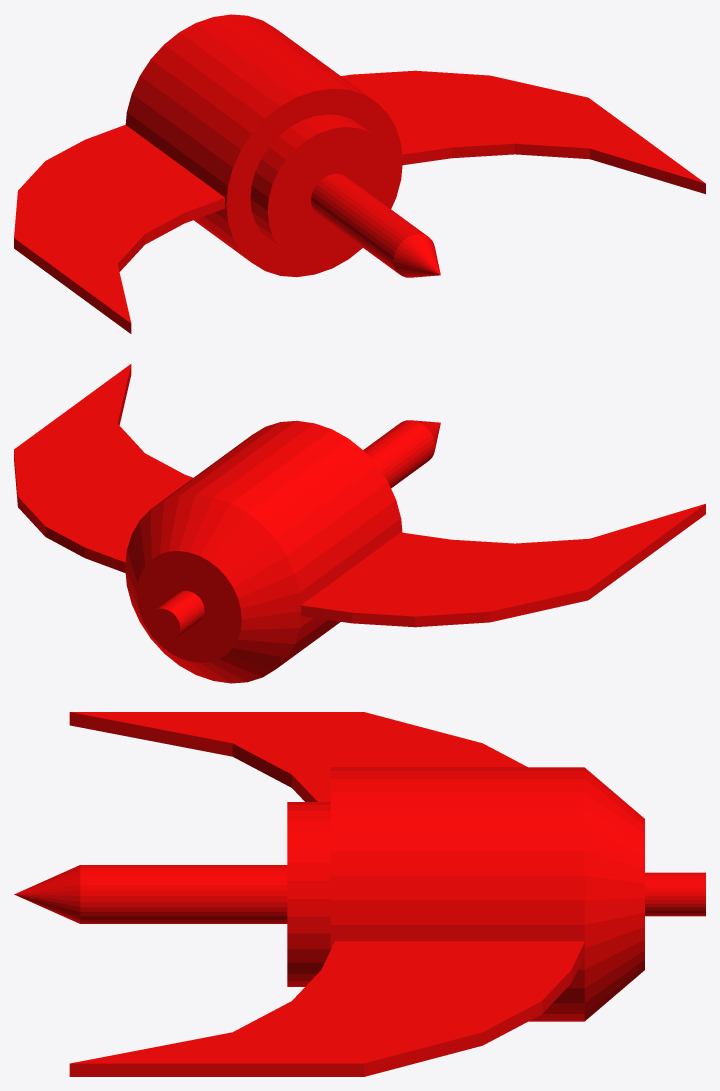
File: Centauri.fbx
3 renders of one model, top to bottom at view 1: azimuth 30°, elevation 25°; view 2: azimuth 150°, elevation 25°; view 3: azimuth 270°, elevation 25°, orthographic. The views are drawn at different scales.
Visible parts, largest first — view 1: Cylinder; view 2: Cylinder; view 3: Cylinder.
Boxes of the visible parts, x1,y1,x2,y2 form: Cylinder: (14, 14, 705, 333); Cylinder: (14, 364, 705, 683); Cylinder: (14, 712, 705, 1076).
Size of the model in its own units: 187 by 57 by 155.
